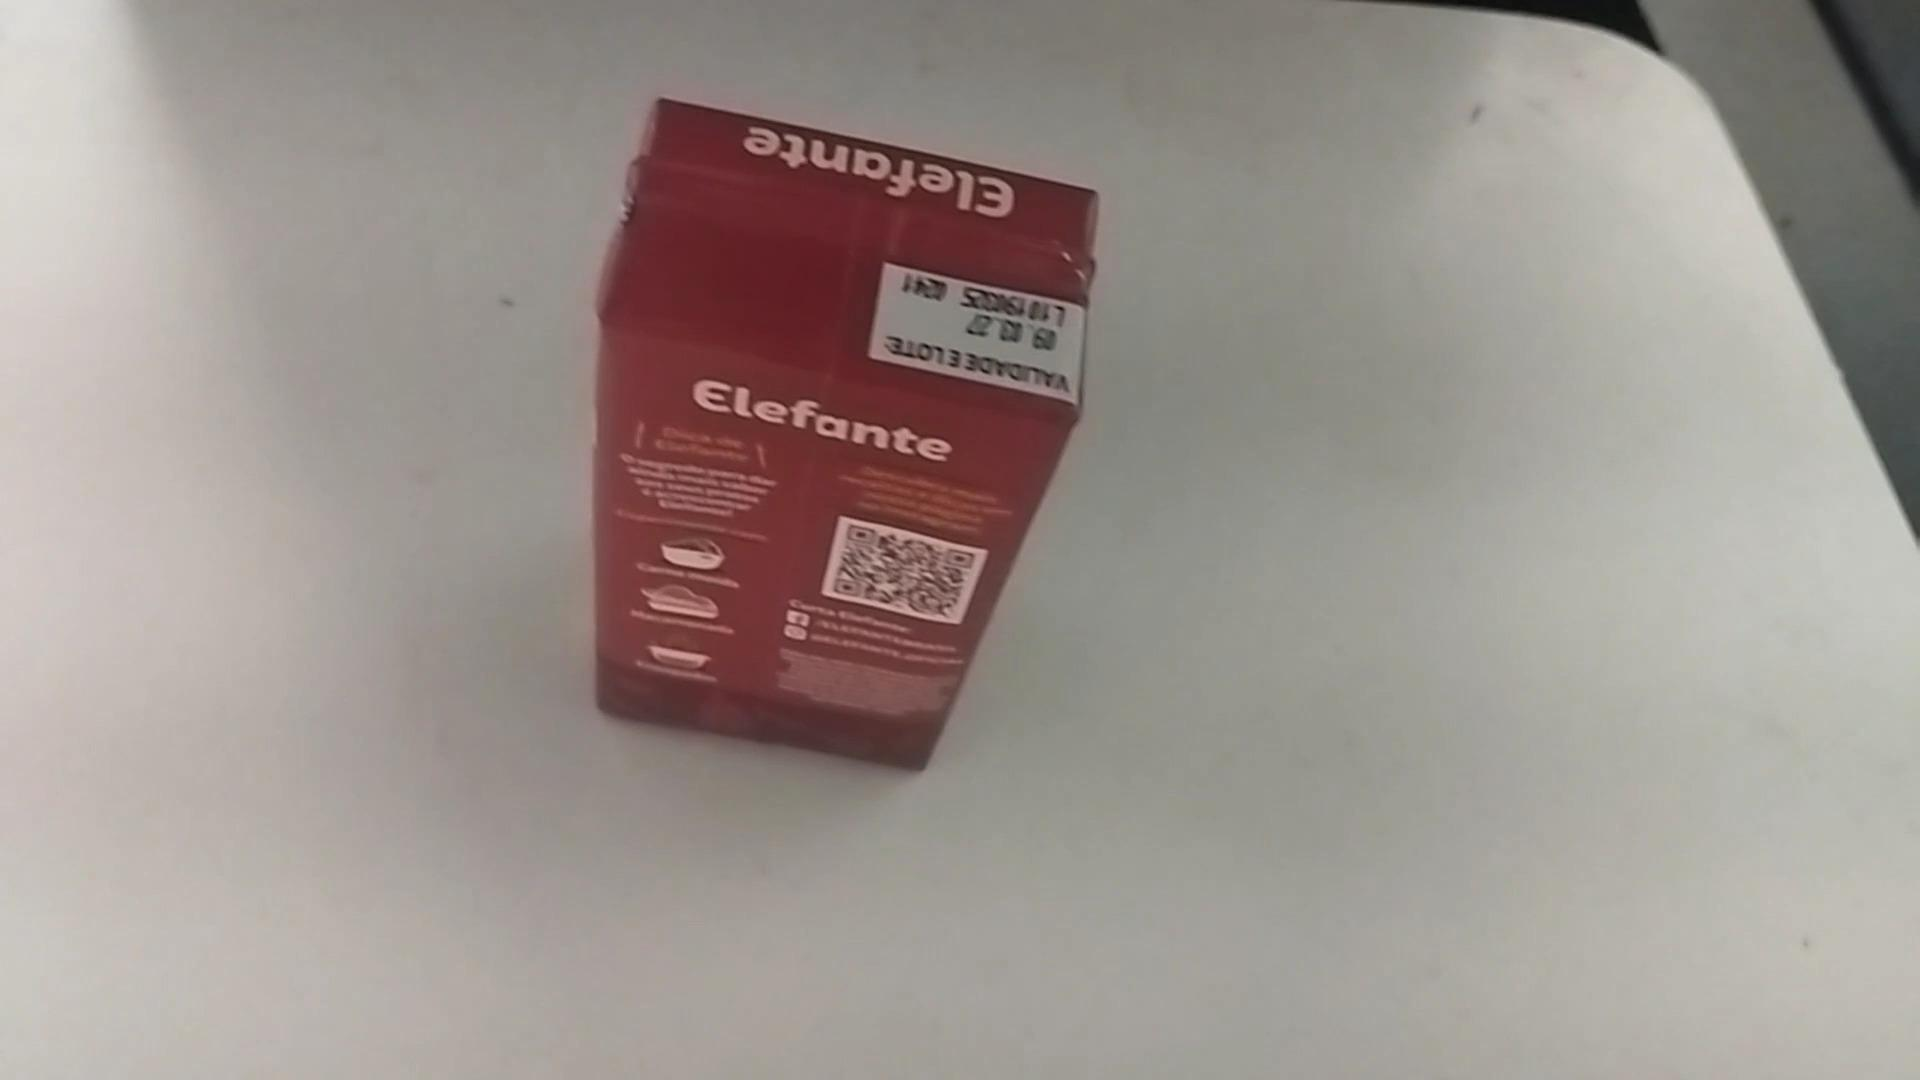tomate: (556, 69, 1133, 798)
